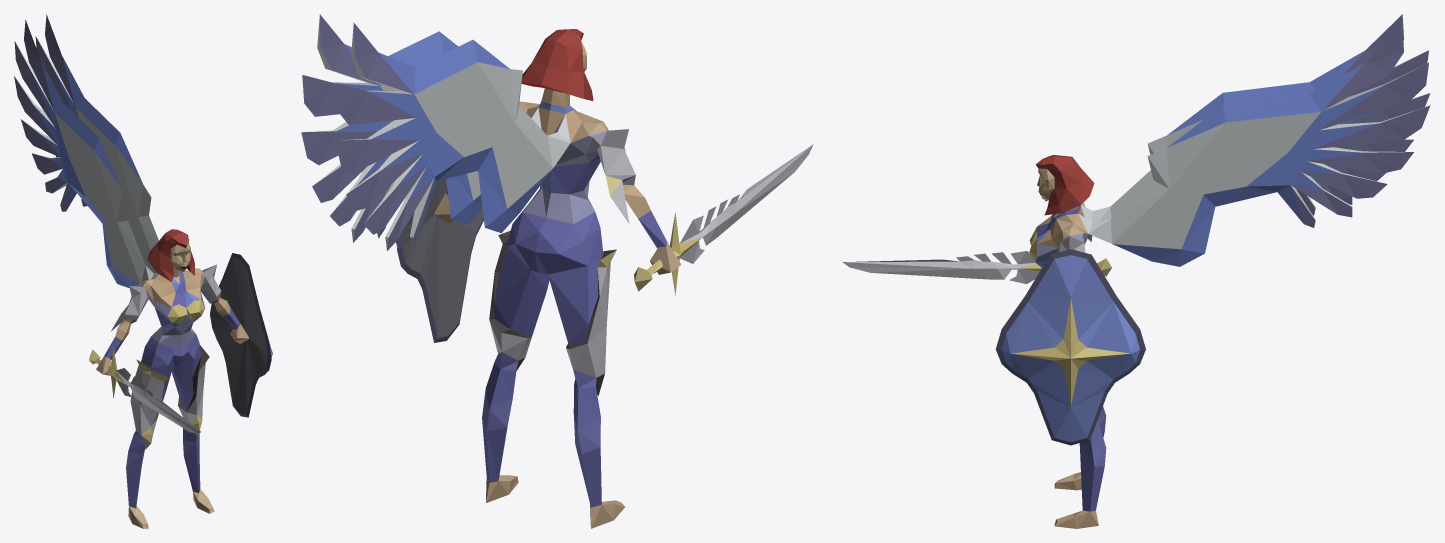
The model's file is commander-zilyana.gltf.
The picture shows the model from 3 angles, left to right: view 1: azimuth 30°, elevation 25°; view 2: azimuth 150°, elevation 25°; view 3: azimuth 270°, elevation 25°; orthographic projection. The views are drawn at different scales.
Size of the model in its own units: 150 by 364 by 399.
Materials: 1 (1 with a texture image).
